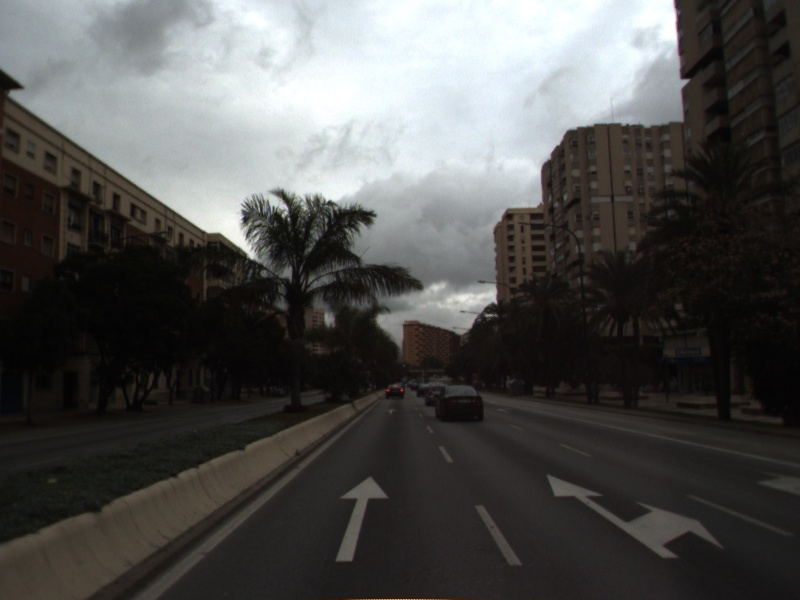RIGHT: (755, 463, 800, 503)
STRAIGHT: (333, 474, 392, 564)
STRAIGHT_RIGHT: (544, 472, 727, 560)
